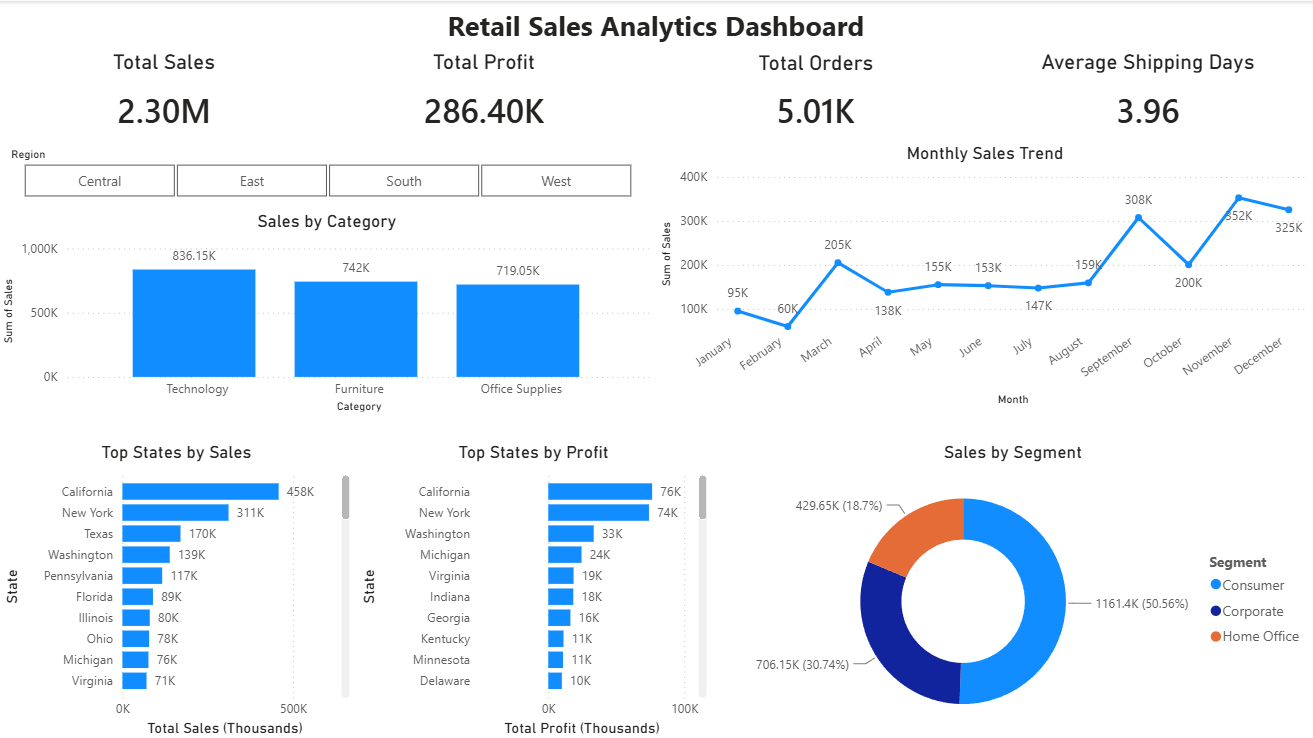

What the dashboard file says about the page in this screenshot:
{"tool":"powerbi","page":{"name":"Retail Sales Overview","canvas":[1280,720],"ordinal":0},"visuals":[{"type":"textbox","box":[315.1,0,649.7,46.7],"z":0},{"type":"cardVisual","title":"Total Sales","fields":{"Data":["Sum(public sales.Sales)"]},"box":[0,47.1,323.1,91.9],"z":0,"group":"g1"},{"type":"slicer","fields":{"Values":["public sales.Region"]},"box":[0,138.1,640,59.3],"z":1000},{"type":"clusteredBarChart","title":"Top States by Sales","fields":{"Category":["public sales_by_state.State"],"Y":["Sum(public sales_by_state.total_sales)"]},"box":[0,428.9,347.2,290.8],"z":2000},{"type":"cardVisual","title":"Total Profit","fields":{"Data":["Sum(public sales.Profit)"]},"box":[310.8,47.1,323.1,91.9],"z":3000,"group":"g1"},{"type":"lineChart","title":"Monthly Sales Trend","fields":{"Category":["public sales.Order Date.Variation.Date Hierarchy.Year","public sales.Order Date.Variation.Date Hierarchy.Quarter","public sales.Order Date.Variation.Date Hierarchy.Month","public sales.Order Date.Variation.Date Hierarchy.Day"],"Y":["Sum(public sales.Sales)"]},"box":[640,138.1,640,259.7],"z":3000},{"type":"clusteredColumnChart","title":"Sales by Category","fields":{"Category":["public sales.Category"],"Y":["Sum(public sales.Sales)"]},"box":[0,204.3,640,200.4],"z":4000},{"type":"cardVisual","title":"Total Orders","fields":{"Data":["Count(public sales.Order ID)"]},"box":[634.2,48.2,322.9,91],"z":5000,"group":"g1"},{"type":"donutChart","title":"Sales by Segment","fields":{"Category":["public sales.Segment"],"Y":["Sum(public sales.Sales)"]},"box":[694.5,428.9,585.5,290.8],"z":5000},{"type":"clusteredBarChart","title":"Top States by Profit","fields":{"Y":["Sum(public sales.Profit)"],"Category":["public sales.State"]},"box":[347.2,428.9,347.2,290.8],"z":6000},{"type":"group","id":"g1","title":"Group 1","box":[0,47.1,1280,92.1],"z":7000},{"type":"cardVisual","title":"Average Shipping Days","fields":{"Data":["Avg(public sales.Days To Ship)"]},"box":[956.9,47.1,323.1,91.9],"z":7000,"group":"g1"}]}

Visuals, with their boxes in screenshot pixels (x1, y1, x2, y2), scaled from the page's 1280x720 canvas onto the 1313x738 screenshot:
textbox: crop(323, 0, 990, 48)
"Total Sales" cardVisual: crop(0, 48, 331, 142)
slicer - public sales.Region: crop(0, 142, 656, 202)
"Top States by Sales" clusteredBarChart: crop(0, 440, 356, 737)
"Total Profit" cardVisual: crop(319, 48, 650, 142)
"Monthly Sales Trend" lineChart: crop(656, 142, 1312, 408)
"Sales by Category" clusteredColumnChart: crop(0, 209, 656, 415)
"Total Orders" cardVisual: crop(651, 49, 982, 143)
"Sales by Segment" donutChart: crop(712, 440, 1312, 737)
"Top States by Profit" clusteredBarChart: crop(356, 440, 712, 737)
"Group 1" group: crop(0, 48, 1312, 143)
"Average Shipping Days" cardVisual: crop(982, 48, 1312, 142)
